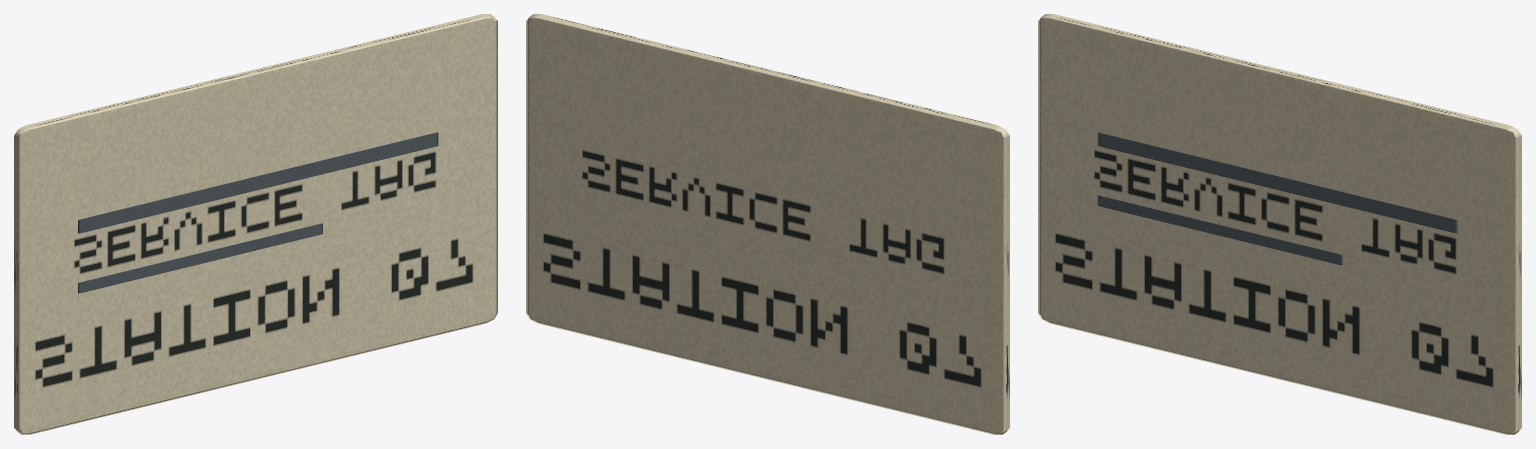
The model's file is service-tag.glb.
The picture shows the model from 3 angles, left to right: view 1: azimuth 30°, elevation 25°; view 2: azimuth 150°, elevation 25°; view 3: azimuth 330°, elevation 25°; orthographic projection.
Parts seen in each view (by area): view 1: board, stripe, line; view 2: board; view 3: board, stripe, line.
Part boxes in pixels (<box>): board: <box>14,14,497,434</box>; stripe: <box>78,132,438,233</box>; line: <box>78,223,322,293</box>; board: <box>526,14,1009,434</box>; board: <box>1038,14,1521,434</box>; stripe: <box>1097,132,1457,233</box>; line: <box>1097,195,1342,265</box>.
Size of the model in its own units: 0.09 by 0.055 by 0.00136.
Materials: 2 (2 with a texture image).
